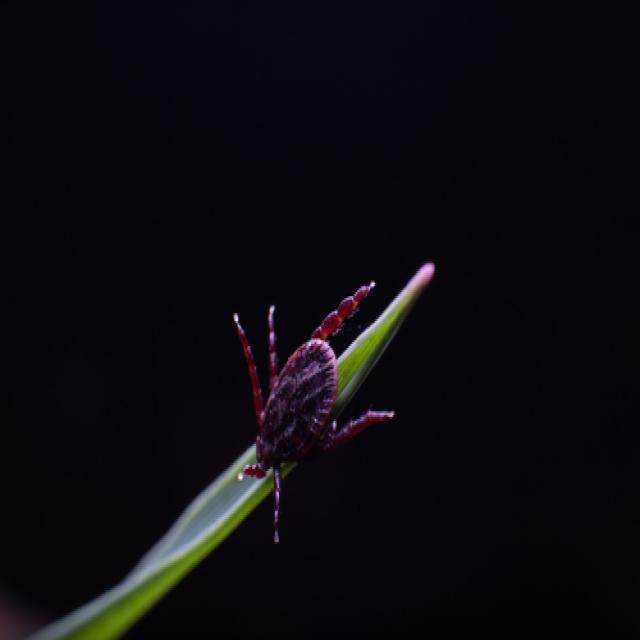Dermacentor Reticulatus-M: (233, 283, 394, 546)
